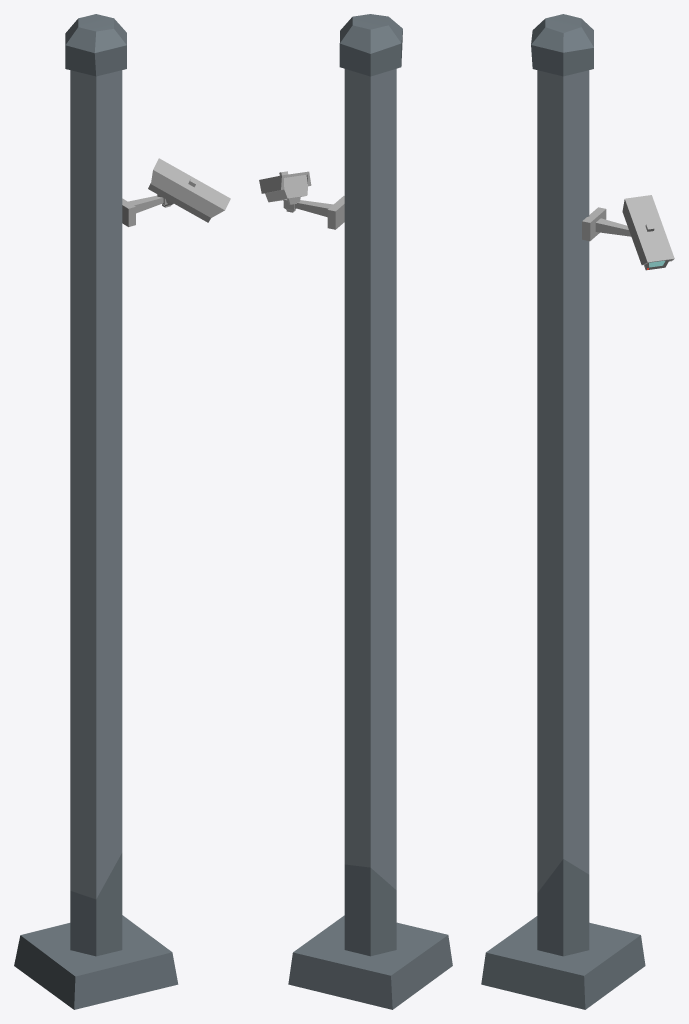
Rendered from SecurityCamera_Post.glb.
3 views of the same model, side by side, from view 1: azimuth 30°, elevation 25°; view 2: azimuth 150°, elevation 25°; view 3: azimuth 330°, elevation 25° (orthographic).
Parts seen in each view (by area): view 1: SM_Sign_Post_04, Security_Camera, Security_Camera_Mount; view 2: SM_Sign_Post_04, Security_Camera, Security_Camera_Mount; view 3: SM_Sign_Post_04, Security_Camera, Security_Camera_Mount.
Boxes of the visible parts, x1,y1,x2,y2 form: SM_Sign_Post_04: [14, 14, 178, 1009]; Security_Camera: [148, 158, 230, 222]; Security_Camera_Mount: [122, 195, 170, 226]; SM_Sign_Post_04: [288, 14, 452, 1009]; Security_Camera: [259, 171, 311, 204]; Security_Camera_Mount: [283, 196, 344, 229]; SM_Sign_Post_04: [481, 14, 645, 1009]; Security_Camera: [622, 195, 674, 270]; Security_Camera_Mount: [582, 207, 631, 241].
Bounding box in the file's own units: 0.9796 × 5.09 × 0.5826.
5 materials, 4 textured.
